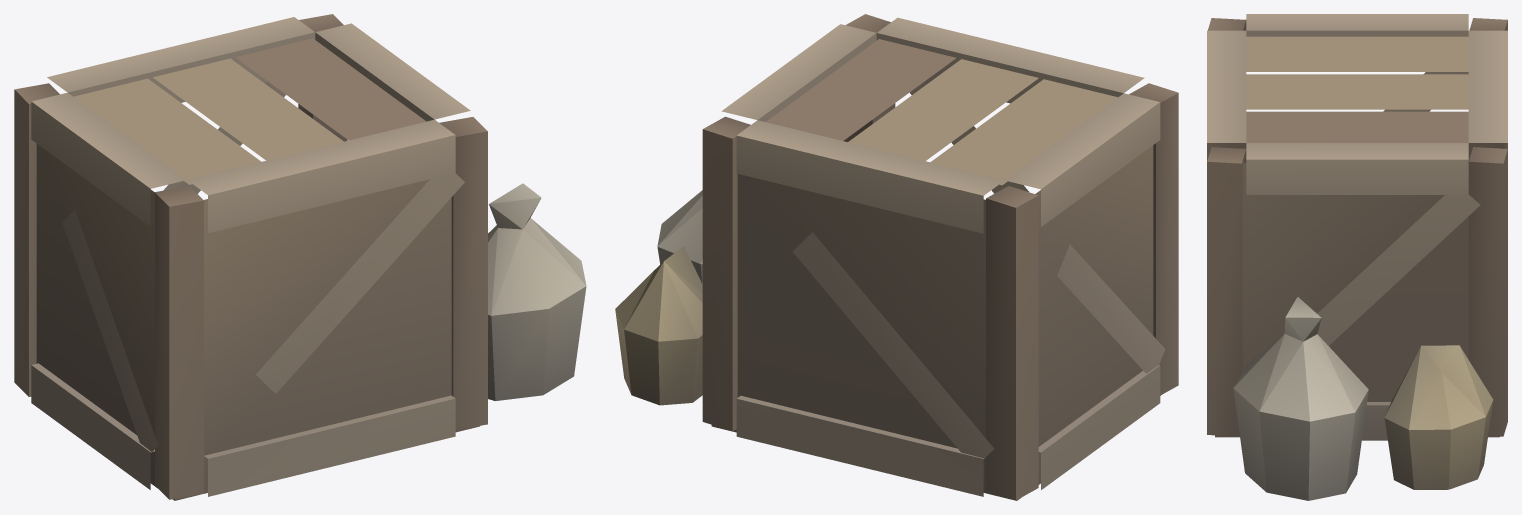
Rendered from crate.lod1.glb.
The picture shows the model from 3 angles, left to right: view 1: azimuth 30°, elevation 25°; view 2: azimuth 150°, elevation 25°; view 3: azimuth 270°, elevation 25°; orthographic projection. The views are drawn at different scales.
Size of the model in its own units: 1.6 by 0.99 by 0.96.
